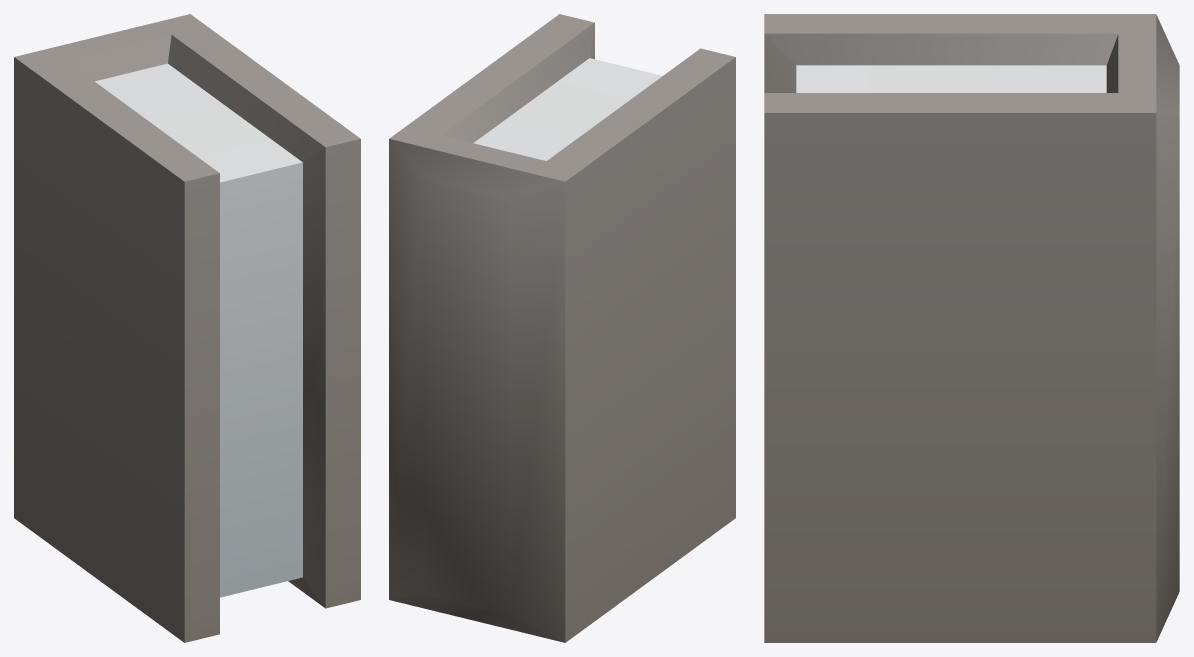
File: book_grey.glb
3 renders of one model, left to right at view 1: azimuth 30°, elevation 25°; view 2: azimuth 150°, elevation 25°; view 3: azimuth 270°, elevation 25°, orthographic. The views are drawn at different scales.
Visible parts, largest first — view 1: book_grey; view 2: book_grey; view 3: book_grey.
Boxes of the visible parts, x1=… form: book_grey: x1=14, y1=14, x2=360, y2=642; book_grey: x1=389, y1=14, x2=735, y2=642; book_grey: x1=764, y1=14, x2=1179, y2=642.
Size of the model in its own units: 0.2 by 0.5 by 0.355.
Materials: 1 (1 with a texture image).
